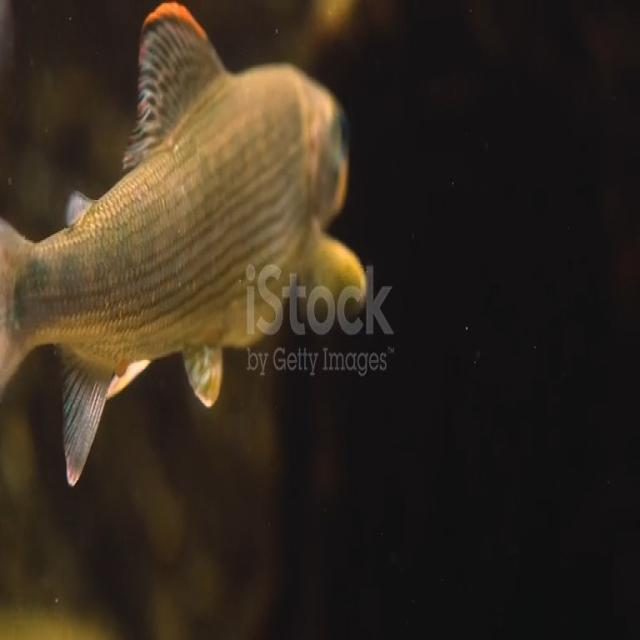fish: (1, 3, 365, 488)
